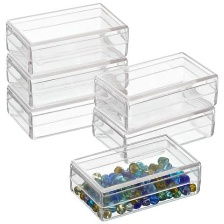plastic_box: (0, 0, 135, 144), (86, 46, 223, 164), (62, 129, 207, 223)
